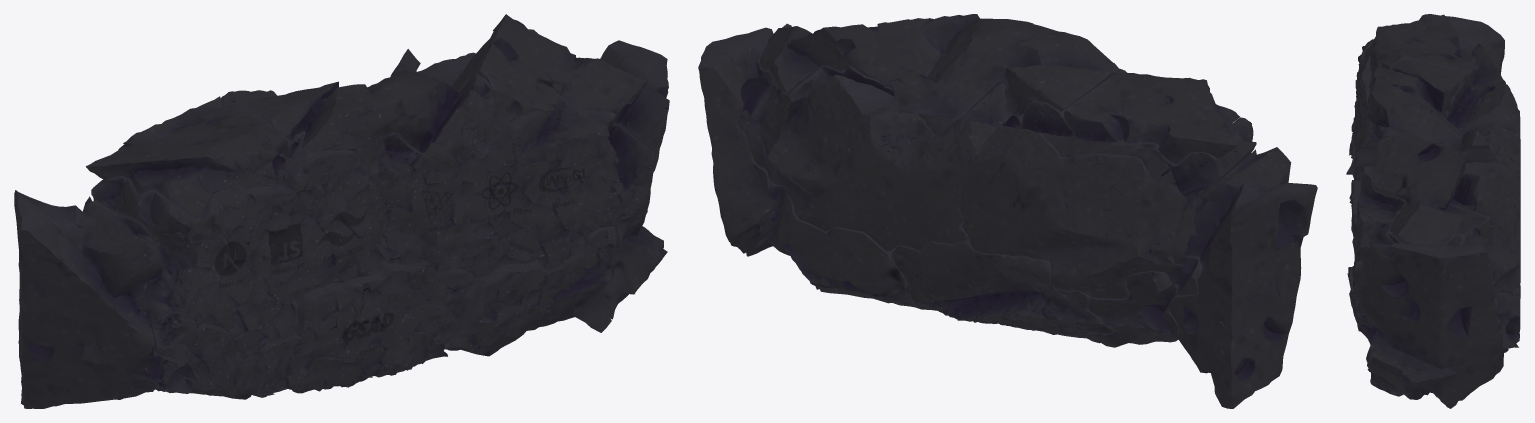
Rendered from skills-monolith.glb.
3 views of the same model, side by side, from view 1: azimuth 30°, elevation 25°; view 2: azimuth 150°, elevation 25°; view 3: azimuth 270°, elevation 25° (orthographic). The views are drawn at different scales.
Visible parts, largest first — view 1: Monolith_Fragment_01, Monolith_Fragment_02, Monolith_Fragment_07, Monolith_Fragment_03, Monolith_Fragment_05, Monolith_Fragment_04, Monolith_Fragment_10, Monolith_Fragment_06, Monolith_Fragment_08, Monolith_Fragment_09; view 2: Monolith_Fragment_01, Monolith_Fragment_02, Monolith_Fragment_07, Monolith_Fragment_05, Monolith_Fragment_03, Monolith_Fragment_04, Monolith_Fragment_08, Monolith_Fragment_06, Monolith_Fragment_10, Monolith_Fragment_09; view 3: Monolith_Fragment_08, Monolith_Fragment_02, Monolith_Fragment_05, Monolith_Fragment_06, Monolith_Fragment_04, Monolith_Fragment_01, Monolith_Fragment_10, Monolith_Fragment_07, Monolith_Fragment_03.
Boxes of the visible parts, x1,y1,x2,y2 form: Monolith_Fragment_01: [91, 90, 388, 361]; Monolith_Fragment_02: [361, 52, 655, 277]; Monolith_Fragment_07: [14, 190, 200, 408]; Monolith_Fragment_03: [252, 260, 475, 397]; Monolith_Fragment_05: [242, 49, 493, 169]; Monolith_Fragment_04: [86, 96, 295, 217]; Monolith_Fragment_10: [370, 226, 616, 377]; Monolith_Fragment_06: [452, 14, 646, 144]; Monolith_Fragment_08: [599, 40, 669, 319]; Monolith_Fragment_09: [158, 324, 287, 399]; Monolith_Fragment_01: [960, 68, 1256, 298]; Monolith_Fragment_02: [738, 65, 1023, 251]; Monolith_Fragment_07: [1168, 147, 1317, 408]; Monolith_Fragment_05: [888, 14, 1120, 136]; Monolith_Fragment_03: [891, 237, 1114, 336]; Monolith_Fragment_04: [1042, 72, 1239, 178]; Monolith_Fragment_08: [698, 23, 791, 256]; Monolith_Fragment_06: [760, 18, 940, 91]; Monolith_Fragment_10: [756, 183, 938, 310]; Monolith_Fragment_09: [1037, 270, 1179, 347]; Monolith_Fragment_08: [1355, 233, 1503, 408]; Monolith_Fragment_02: [1352, 116, 1520, 298]; Monolith_Fragment_05: [1353, 58, 1500, 167]; Monolith_Fragment_06: [1372, 131, 1486, 244]; Monolith_Fragment_04: [1363, 14, 1505, 87]; Monolith_Fragment_01: [1349, 39, 1520, 189]; Monolith_Fragment_10: [1347, 267, 1520, 396]; Monolith_Fragment_07: [1346, 14, 1504, 174]; Monolith_Fragment_03: [1349, 180, 1360, 253].
Bounding box in the file's own units: 8.24 × 3.53 × 2.44.
1 material, 1 textured.
